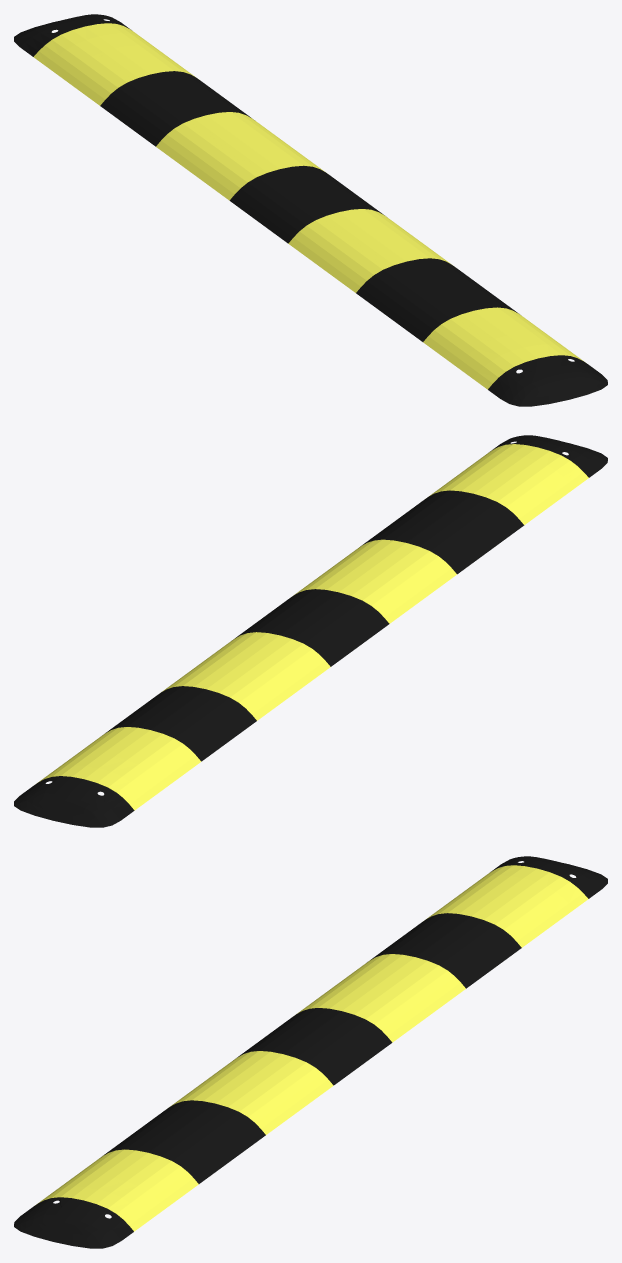
File: speedBump.fbx
The picture shows the model from 3 angles, top to bottom: view 1: azimuth 30°, elevation 25°; view 2: azimuth 150°, elevation 25°; view 3: azimuth 330°, elevation 25°; orthographic projection.
Visible parts, largest first — view 1: polySurface5; view 2: polySurface5; view 3: polySurface5.
Part boxes in pixels (x1=…): polySurface5: x1=14, y1=14, x2=607, y2=406; polySurface5: x1=14, y1=435, x2=607, y2=827; polySurface5: x1=14, y1=856, x2=607, y2=1248.
Size of the model in its own units: 1.19 by 0.2154 by 10.47.
